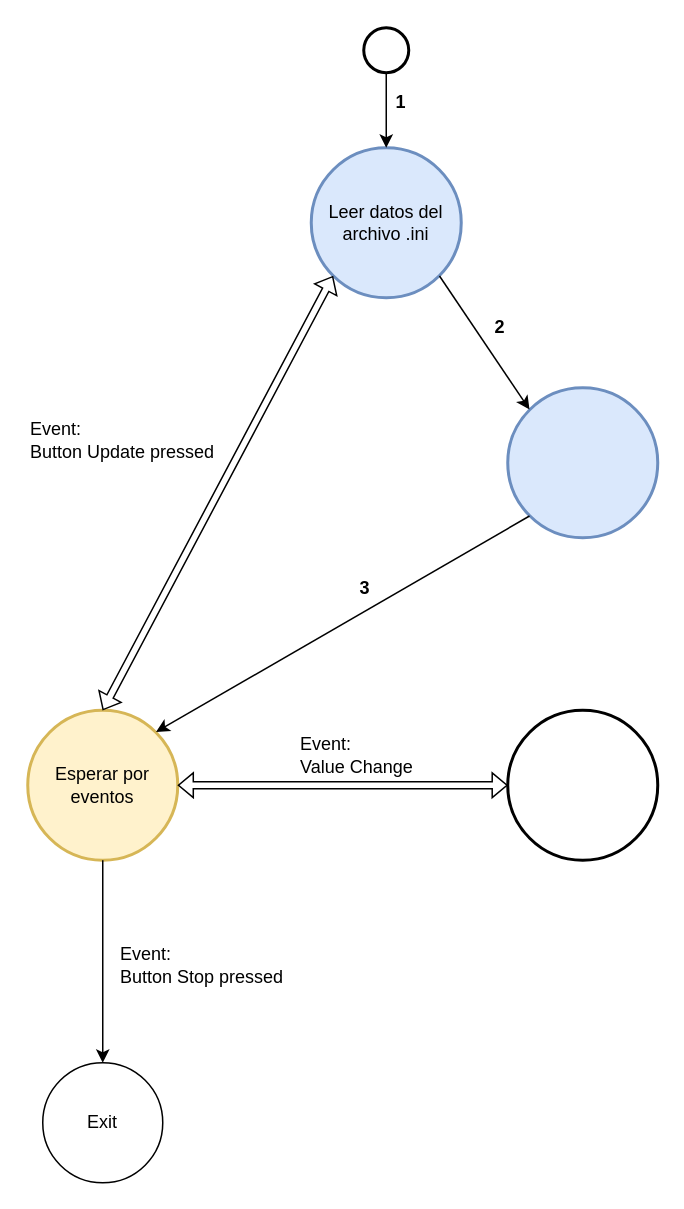
This 684x1209 diagram has some shape labels left out. The box of each missing label's shape, as (x1, y1, x2, y2) in pixels:
Actualizar los datos de los indicadores del FP: (506, 386, 658, 538)
Escribir los cambios en el archivo .ini: (506, 708, 658, 861)
